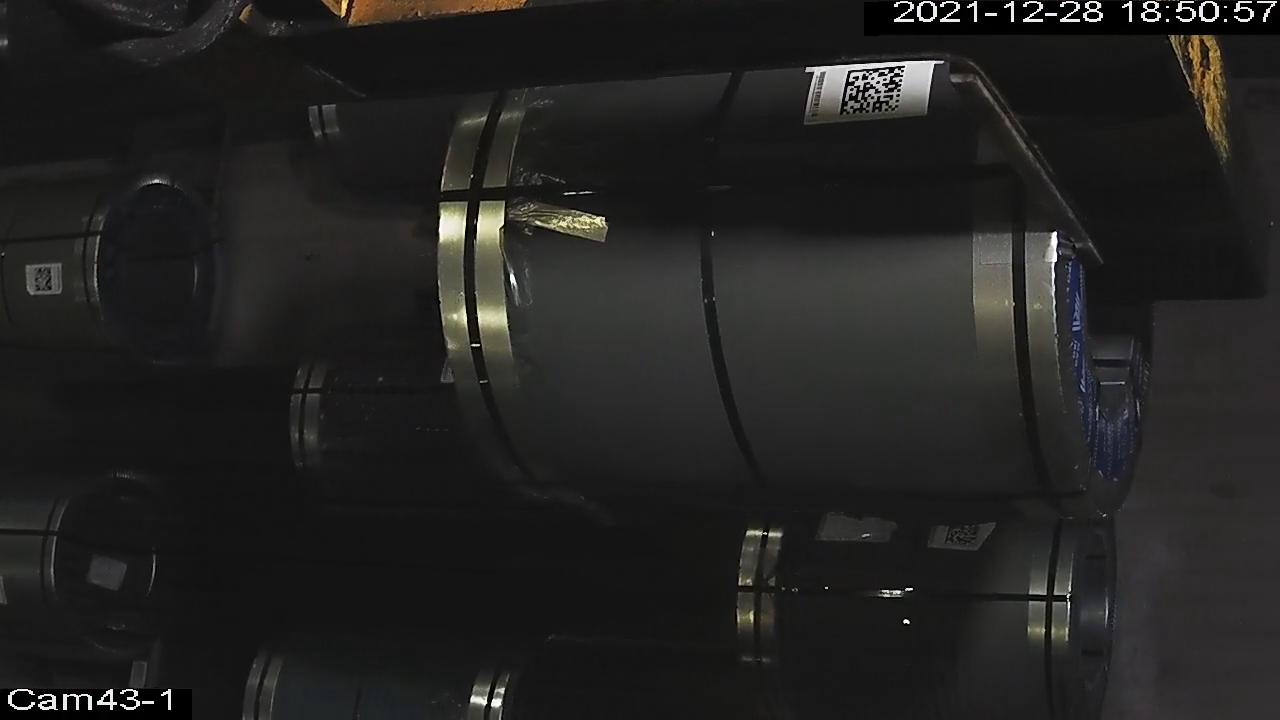data matrix: (838, 64, 907, 122), (32, 266, 56, 294)
